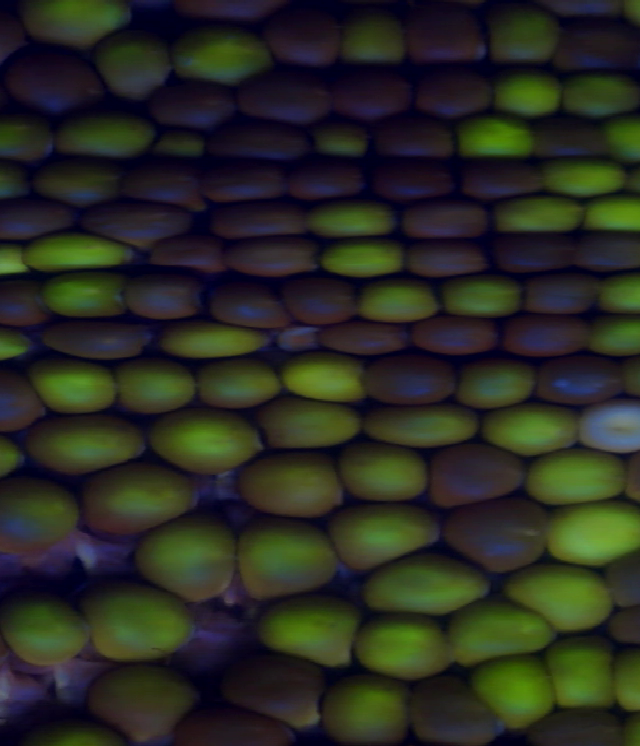fluorescent: (89, 590, 199, 669), (85, 470, 191, 546), (143, 518, 238, 601), (91, 673, 198, 743), (238, 521, 338, 594), (360, 560, 491, 612), (151, 414, 265, 473), (510, 567, 616, 629), (26, 415, 147, 469), (253, 601, 355, 665), (447, 610, 555, 670), (315, 680, 413, 746), (476, 641, 544, 736), (358, 614, 461, 676), (241, 457, 347, 512), (0, 484, 84, 553), (24, 1, 139, 49), (526, 449, 627, 503), (337, 514, 437, 567), (6, 603, 88, 667), (550, 504, 640, 560), (26, 359, 117, 414), (371, 405, 479, 450), (95, 36, 169, 101), (27, 234, 131, 280), (487, 1, 554, 72), (348, 450, 427, 510), (484, 405, 584, 452), (340, 1, 405, 69), (193, 356, 285, 404), (555, 642, 619, 711), (169, 34, 258, 83), (309, 200, 410, 243), (261, 408, 362, 450), (65, 112, 155, 159), (455, 111, 536, 163), (164, 325, 272, 362), (564, 72, 640, 124), (284, 357, 368, 404), (117, 366, 198, 414), (462, 362, 538, 410), (491, 197, 586, 235), (320, 245, 412, 284), (40, 274, 127, 315), (445, 277, 523, 321), (362, 281, 447, 321), (491, 74, 567, 118), (548, 160, 630, 194), (40, 167, 116, 201), (310, 119, 367, 163), (586, 314, 640, 359), (0, 124, 53, 163), (579, 203, 640, 236), (0, 163, 43, 207), (603, 267, 640, 315), (155, 126, 202, 162), (609, 118, 640, 170), (0, 324, 30, 366), (0, 243, 31, 279)
nonfluorescent: (396, 673, 513, 743), (0, 34, 93, 111), (227, 652, 324, 722), (444, 505, 553, 566), (419, 441, 523, 500), (169, 703, 296, 746), (238, 72, 330, 129), (147, 70, 238, 125), (553, 18, 640, 74), (403, 10, 489, 66), (260, 10, 344, 66), (360, 357, 457, 405), (120, 159, 202, 214), (82, 201, 192, 241), (457, 153, 548, 201), (516, 707, 626, 746), (330, 62, 407, 117), (531, 355, 623, 401), (45, 319, 148, 360), (403, 203, 489, 252), (207, 276, 288, 328), (202, 125, 316, 160), (119, 273, 205, 319), (200, 155, 286, 201), (222, 239, 324, 277), (317, 318, 412, 357), (367, 162, 461, 201), (409, 317, 505, 355), (492, 231, 578, 273), (281, 162, 362, 204), (536, 117, 609, 162), (509, 318, 595, 356), (0, 197, 68, 245), (402, 242, 495, 277), (410, 76, 489, 117), (362, 118, 457, 152), (524, 276, 602, 317), (143, 236, 229, 273), (285, 279, 348, 328), (199, 210, 306, 236), (578, 235, 640, 277), (0, 372, 37, 438), (605, 543, 640, 604), (0, 287, 45, 328), (610, 595, 640, 655)
